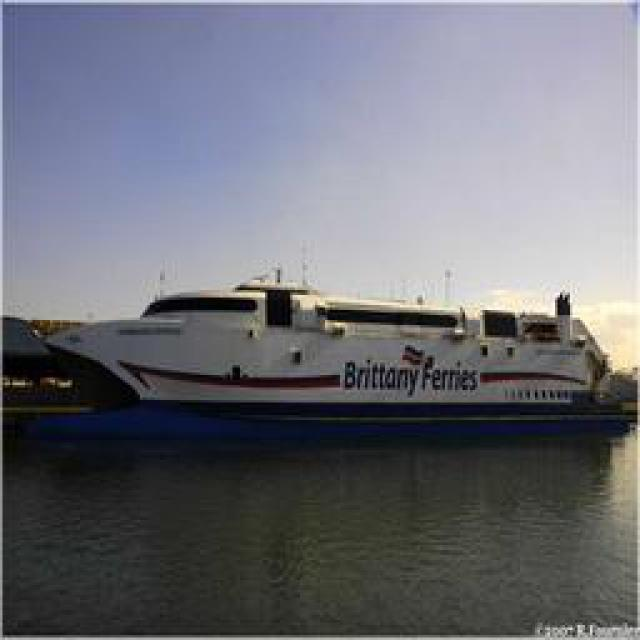Ship: (11, 273, 636, 438)
